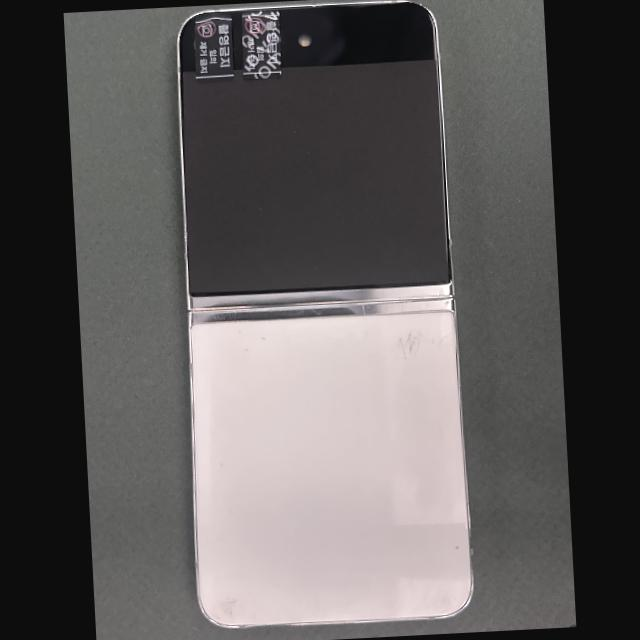phone: (178, 0, 474, 628)
sticker: (241, 10, 282, 80), (195, 13, 234, 83)
